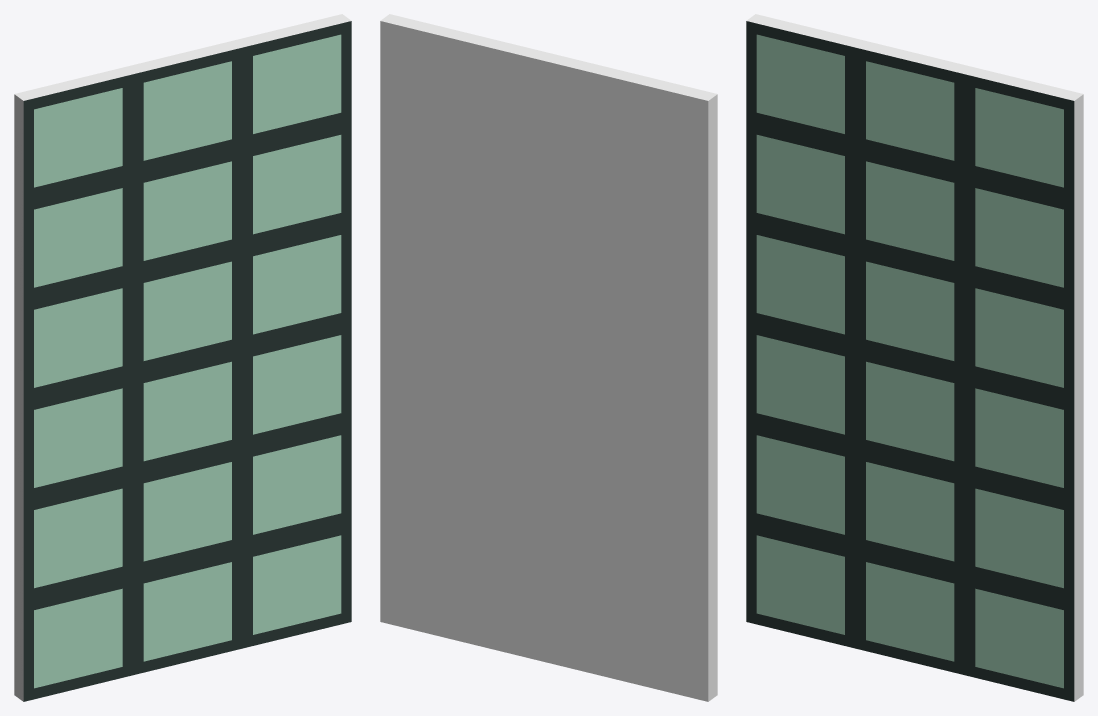
The model's file is Prop_Wall_06.fbx.
3 views of the same model, side by side, from view 1: azimuth 30°, elevation 25°; view 2: azimuth 150°, elevation 25°; view 3: azimuth 330°, elevation 25° (orthographic).
Visible parts, largest first — view 1: Prop_Wall_06; view 2: Prop_Wall_06; view 3: Prop_Wall_06.
Boxes of the visible parts, left/top/right/bottom form: Prop_Wall_06: left=14, top=14, right=351, bottom=701; Prop_Wall_06: left=380, top=14, right=717, bottom=701; Prop_Wall_06: left=746, top=14, right=1083, bottom=701.
Bounding box in the file's own units: 200 × 350 × 10.
